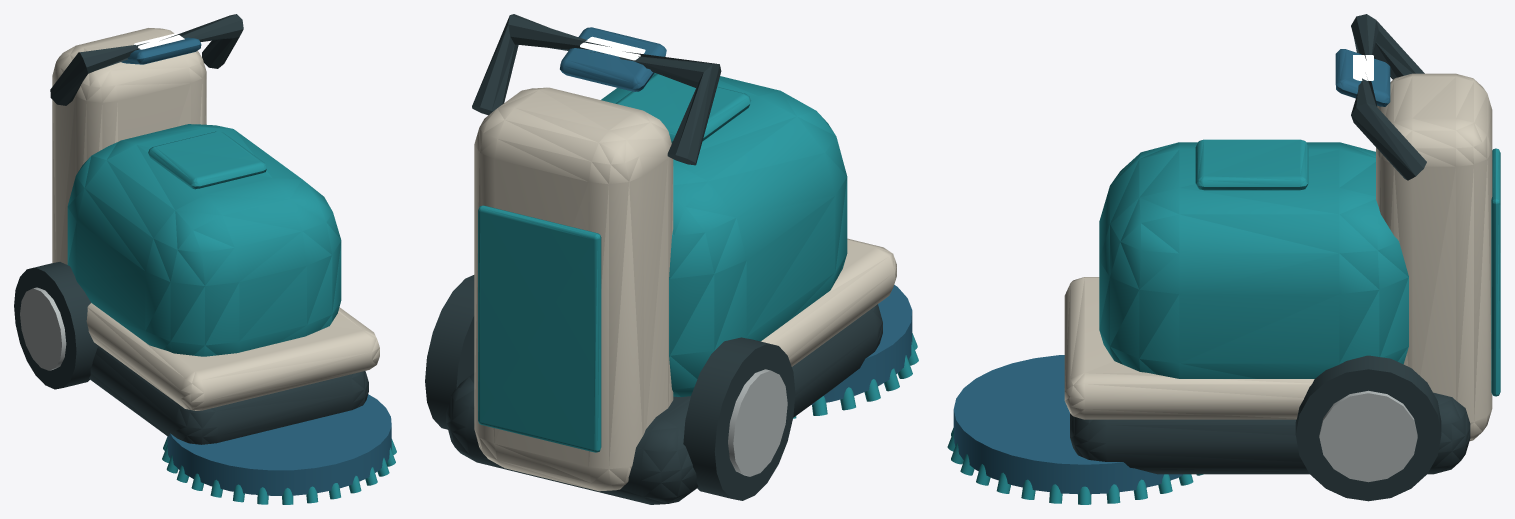
Rendered from 10_advanced_floor_scrubber.glb.
The picture shows the model from 3 angles, left to right: view 1: azimuth 30°, elevation 25°; view 2: azimuth 150°, elevation 25°; view 3: azimuth 270°, elevation 25°; orthographic projection. The views are drawn at different scales.
Visible parts, largest first — view 1: 10_advanced_floor_scrubber__Static; view 2: 10_advanced_floor_scrubber__Static; view 3: 10_advanced_floor_scrubber__Static.
Part boxes in pixels (box(x1,y1,x2,y2)): 10_advanced_floor_scrubber__Static: box(14, 14, 396, 504); 10_advanced_floor_scrubber__Static: box(425, 14, 918, 504); 10_advanced_floor_scrubber__Static: box(947, 14, 1500, 504).
Bounding box in the file's own units: 0.8612 × 1.19 × 1.52.
